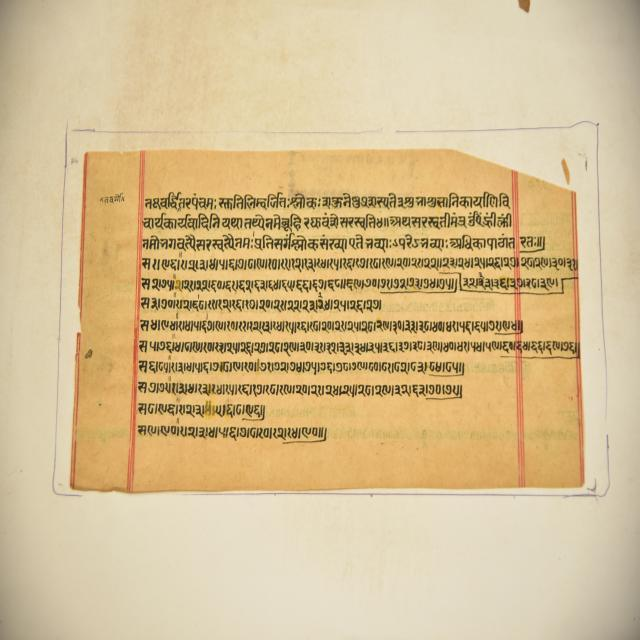text_paragraph: (69, 147, 583, 490)
